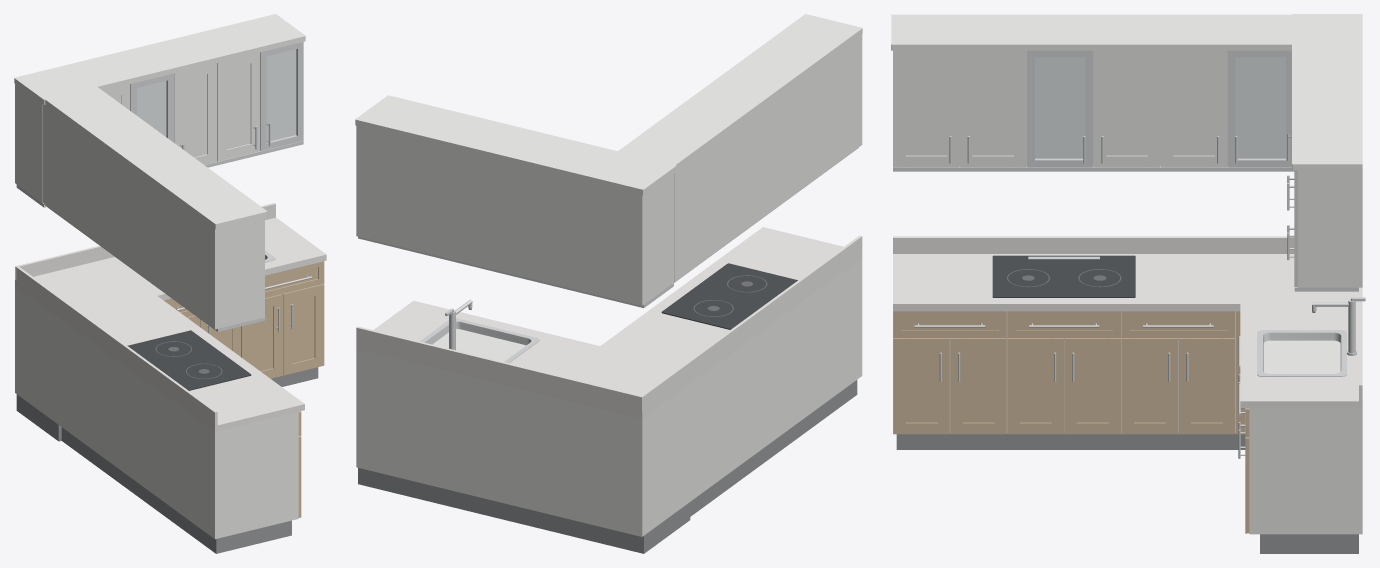
The picture shows the model from 3 angles, left to right: view 1: azimuth 30°, elevation 25°; view 2: azimuth 150°, elevation 25°; view 3: azimuth 270°, elevation 25°; orthographic projection. The views are drawn at different scales.
Parts seen in each view (by area): view 1: Tủ bếp chữ L Dài cạnh chính=1800; Dài cạnh phụ=2400; Sâu tủ ; view 2: Tủ bếp chữ L Dài cạnh chính=1800; Dài cạnh phụ=2400; Sâu tủ ; view 3: Tủ bếp chữ L Dài cạnh chính=1800; Dài cạnh phụ=2400; Sâu tủ .
Boxes of the visible parts, bbox=[...] form: Tủ bếp chữ L Dài cạnh chính=1800; Dài cạnh phụ=2400; Sâu tủ : bbox=[14, 14, 326, 553]; Tủ bếp chữ L Dài cạnh chính=1800; Dài cạnh phụ=2400; Sâu tủ : bbox=[355, 14, 862, 553]; Tủ bếp chữ L Dài cạnh chính=1800; Dài cạnh phụ=2400; Sâu tủ : bbox=[891, 14, 1365, 553].
Bounding box in the file's own units: 1.82 × 2.2 × 2.42.
